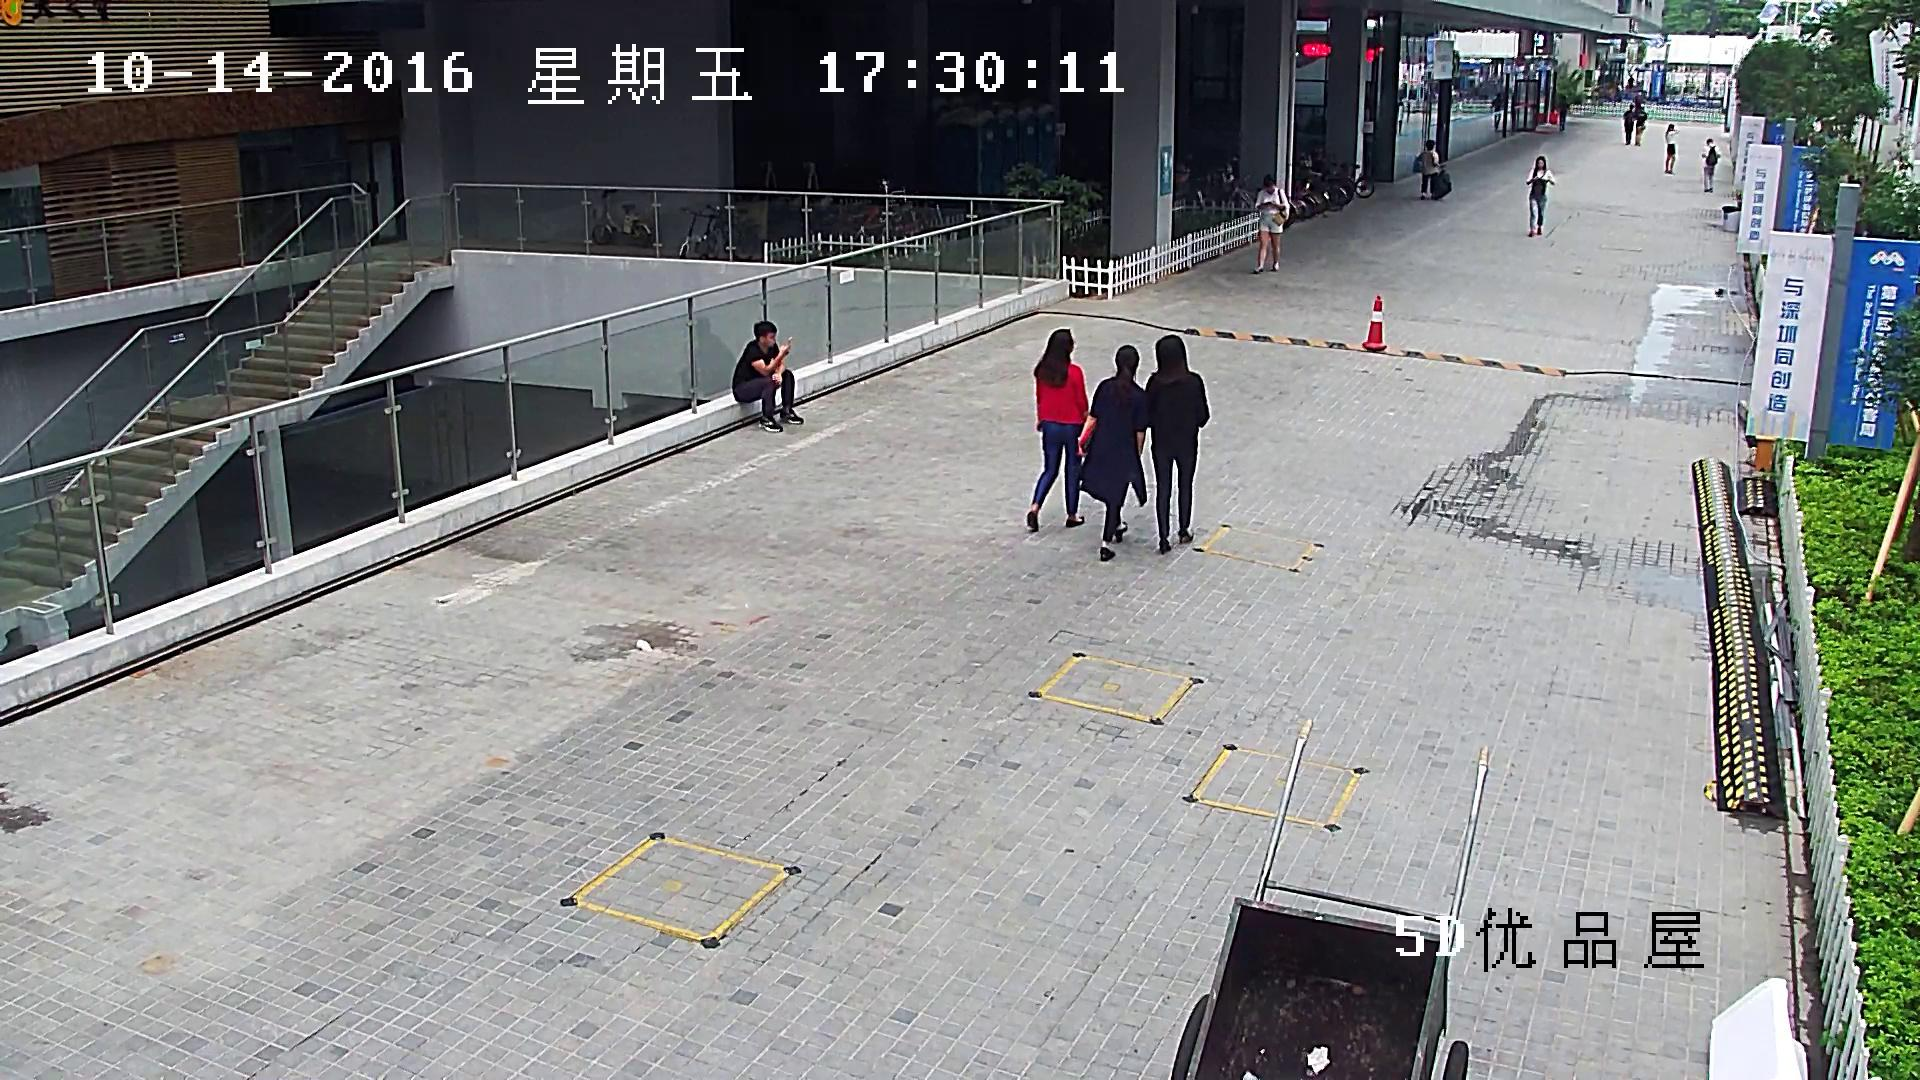person: (1076, 343, 1149, 560), (1142, 332, 1210, 555), (1023, 324, 1087, 530), (731, 318, 807, 432), (678, 318, 735, 396), (1252, 172, 1290, 274), (1525, 154, 1555, 237), (1415, 139, 1452, 200), (1415, 139, 1444, 200), (1699, 137, 1721, 194), (1548, 95, 1569, 135), (1664, 123, 1680, 175), (1556, 94, 1570, 134), (1633, 106, 1647, 146), (1623, 104, 1636, 145), (1490, 92, 1503, 131)
